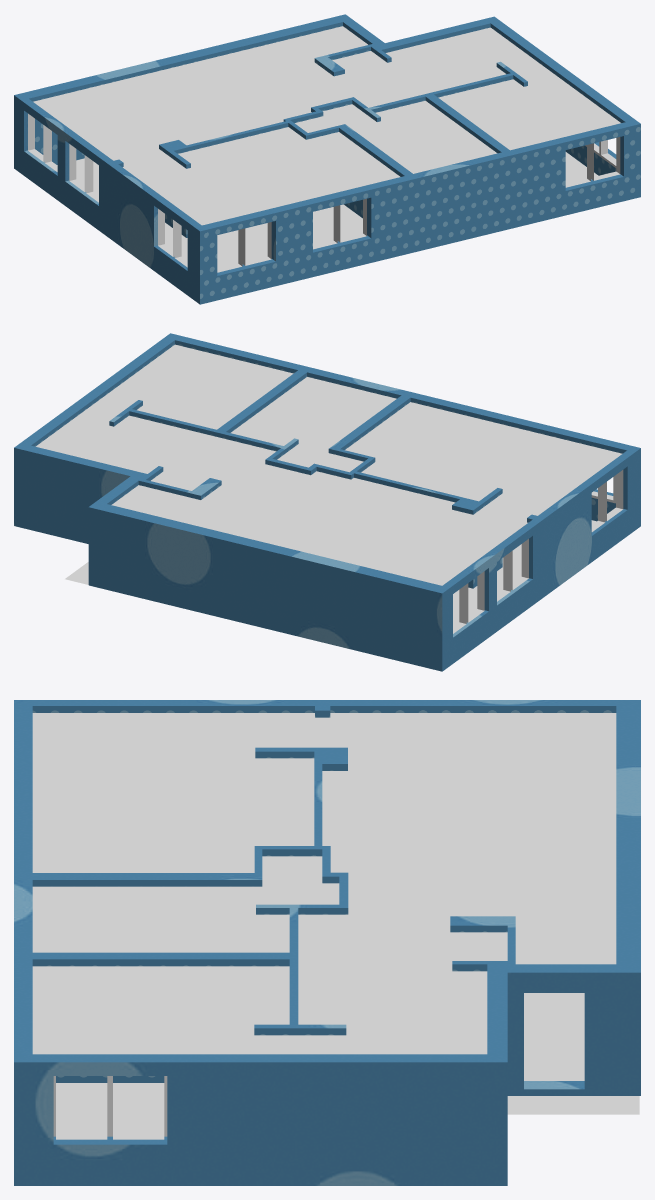
File: House_tutorial.fbx
3 views of the same model, one above another, from view 1: azimuth 30°, elevation 25°; view 2: azimuth 150°, elevation 25°; view 3: azimuth 270°, elevation 25° (orthographic). The views are drawn at different scales.
Visible parts, largest first — view 1: Roof, Walls, Windows, Floor; view 2: Roof, Walls, Windows, Floor; view 3: Roof, Walls, Floor, Windows.
Part boxes in pixels (<box>): Roof: <box>33,26,620,225</box>; Walls: <box>14,14,640,304</box>; Windows: <box>28,113,620,272</box>; Floor: <box>57,152,598,268</box>; Roof: <box>36,344,622,585</box>; Walls: <box>14,333,640,671</box>; Windows: <box>453,470,623,633</box>; Floor: <box>65,520,596,626</box>; Roof: <box>32,713,616,1054</box>; Walls: <box>14,700,640,1185</box>; Floor: <box>56,993,639,1133</box>; Windows: <box>53,1076,167,1139</box>.
Bounding box in the file's own units: 1130 × 180 × 826.
